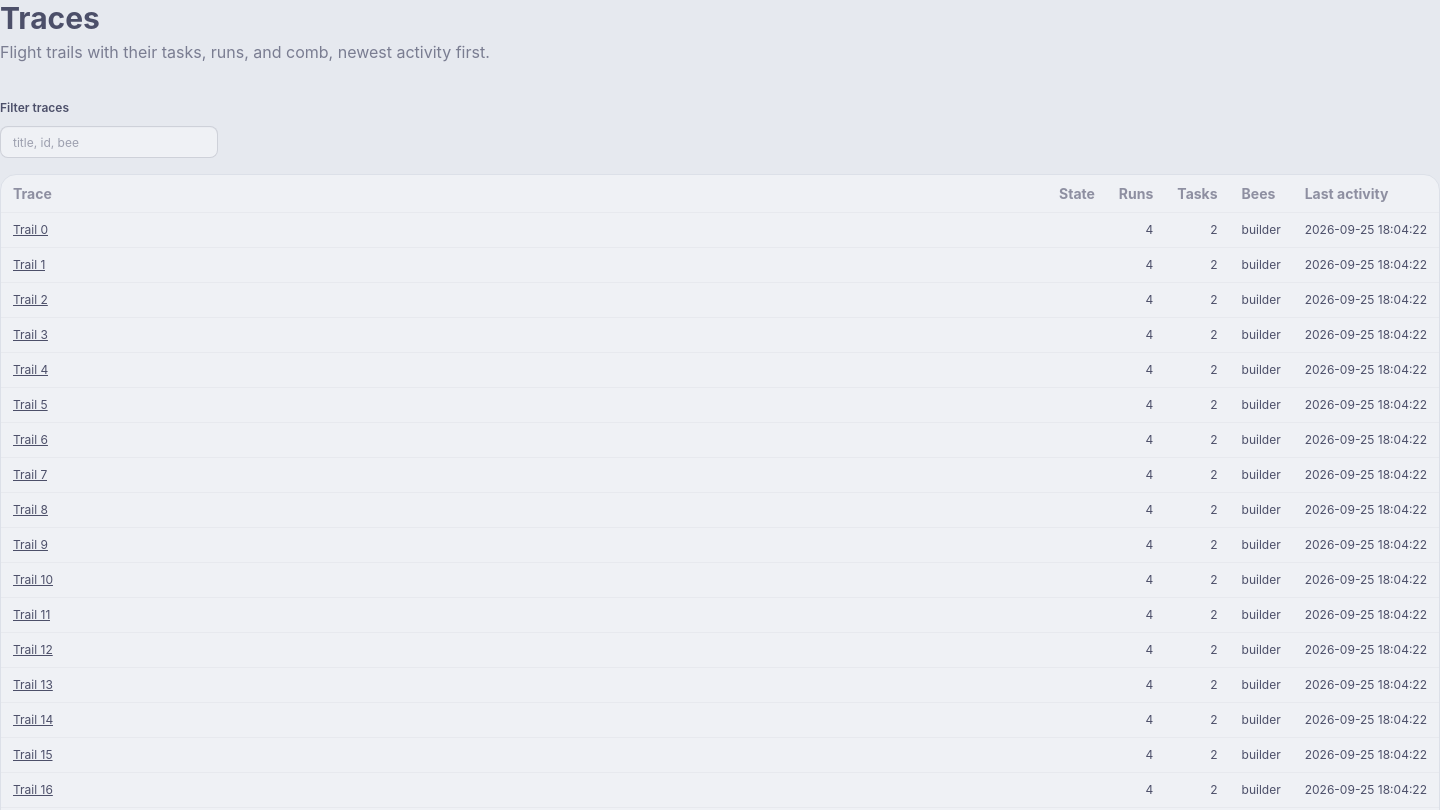
Scenario: traces route › leaves the filter as the whole of this route’s shareable view
The image size is (1440, 810).
In the search field labelled "Filter traces": (109, 142) [0,126,218,158], type "trace-07"
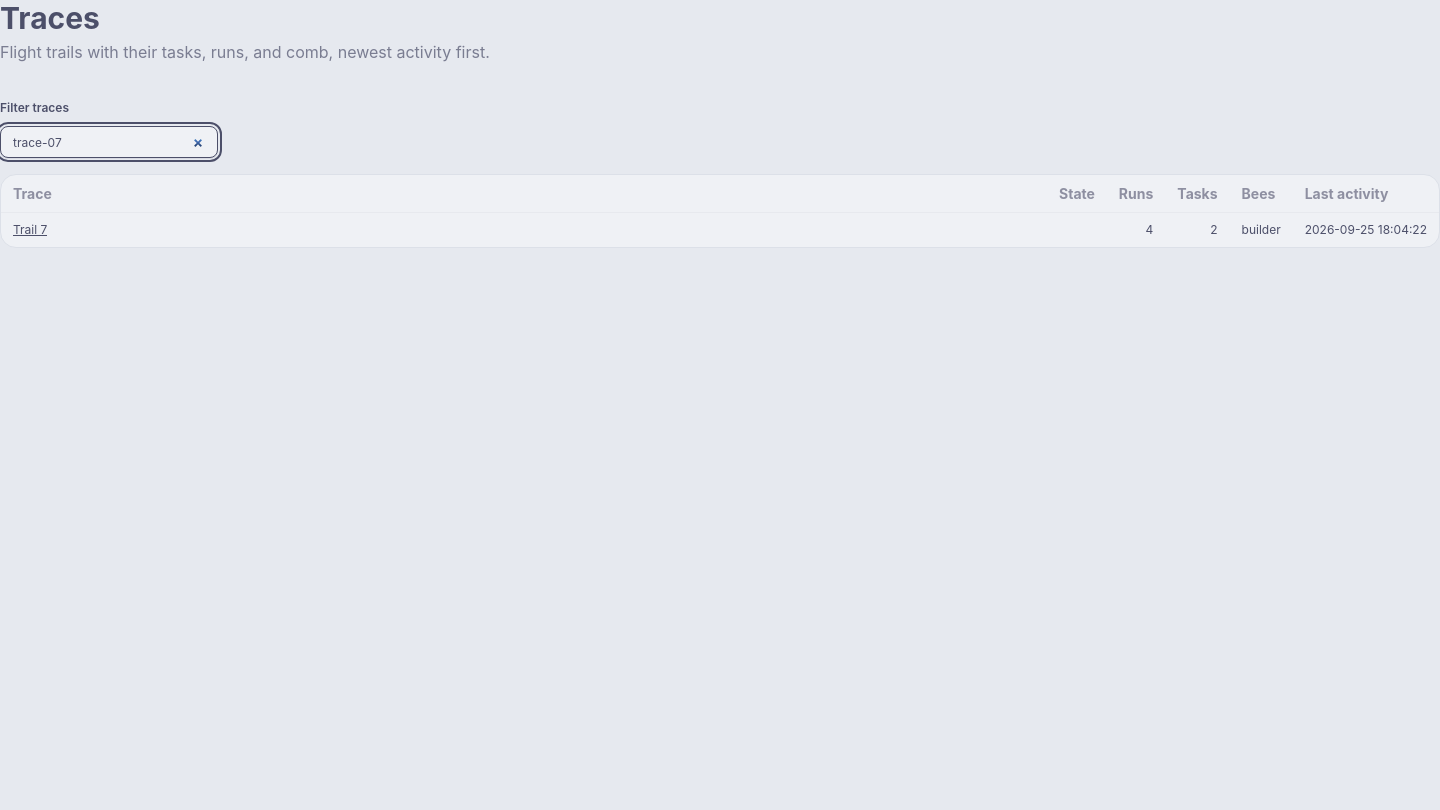
Expected: the link "Trail 7" is shown, [13,221,47,239]
Expected: the link "Trail 8" is gone
